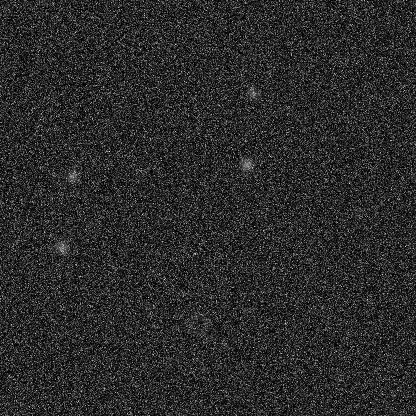Ring: (186, 311, 210, 335)
Spot: (54, 239, 70, 255), (244, 85, 260, 101), (238, 156, 254, 172), (217, 337, 233, 353), (63, 168, 79, 184)
